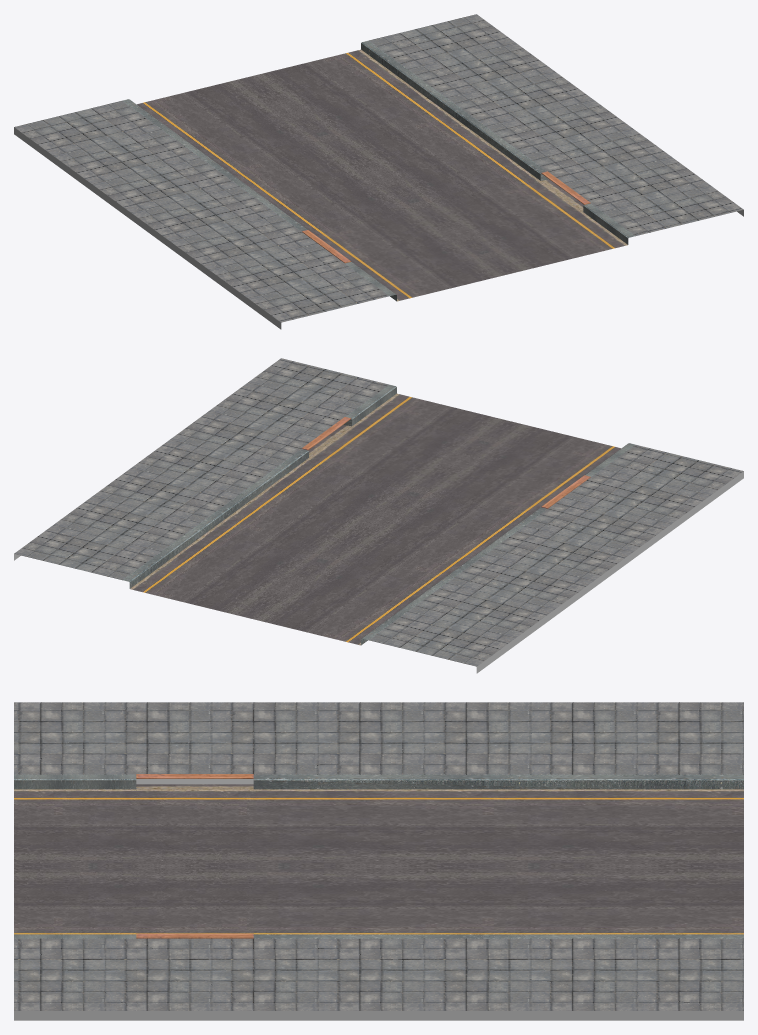
Rendered from road02.obj.
The picture shows the model from 3 angles, top to bottom: view 1: azimuth 30°, elevation 25°; view 2: azimuth 150°, elevation 25°; view 3: azimuth 270°, elevation 25°; orthographic projection. The views are drawn at different scales.
Visible parts, largest first — view 1: Plane.013; view 2: Plane.013; view 3: Plane.013.
Part boxes in pixels (x1=…): Plane.013: x1=14, y1=14, x2=743, y2=329; Plane.013: x1=14, y1=358, x2=743, y2=673; Plane.013: x1=14, y1=702, x2=743, y2=1020.
Size of the model in its own units: 2.29 by 0.0408 by 2.29.
Materials: 7 (6 with a texture image).
